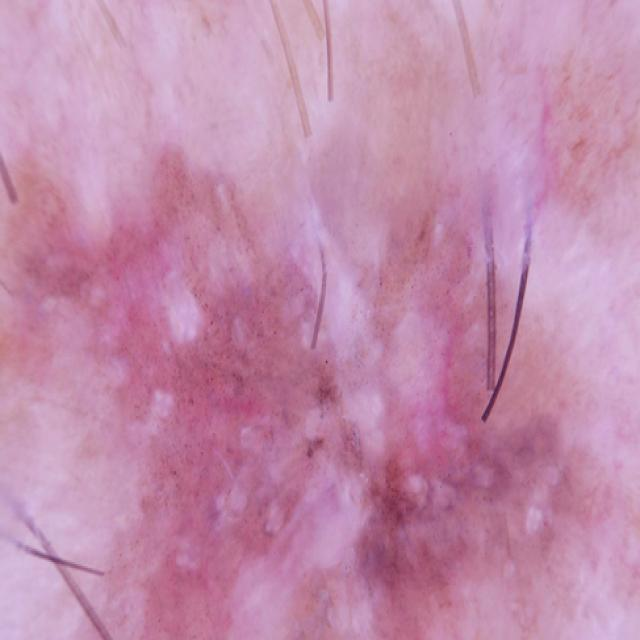Carcinoma: (0, 125, 640, 640)
